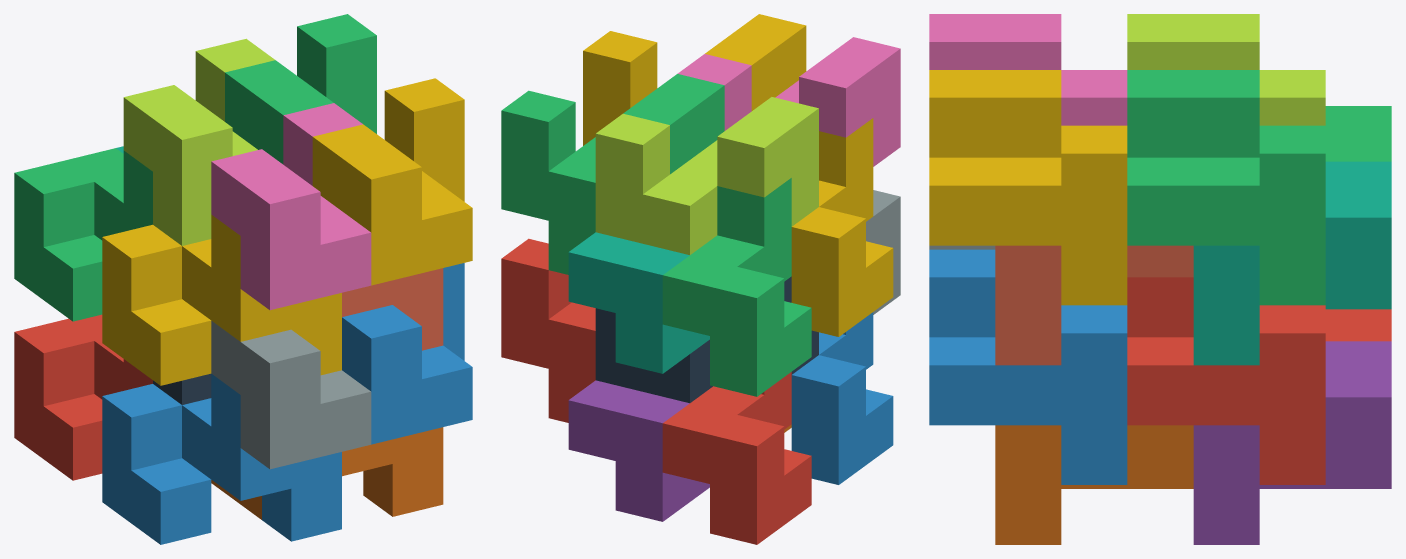
Rendered from tiling.obj.
3 views of the same model, side by side, from view 1: azimuth 30°, elevation 25°; view 2: azimuth 150°, elevation 25°; view 3: azimuth 270°, elevation 25° (orthographic). The views are drawn at different scales.
Parts seen in each view (by area): view 1: copy_1_domain_2, copy_1_domain_4, copy_2_domain_8, copy_2_domain_4, copy_1_domain_3, copy_2_domain_2, copy_2_domain_3, copy_1_domain_1, copy_2_domain_6, copy_2_domain_7, copy_1_domain_6, copy_1_domain_8 (+1 smaller); view 2: copy_2_domain_3, copy_1_domain_3, copy_2_domain_7, copy_1_domain_1, copy_1_domain_4, copy_1_domain_2, copy_2_domain_4, copy_2_domain_8, copy_2_domain_5, copy_1_domain_5, copy_1_domain_7, copy_2_domain_1 (+1 smaller); view 3: copy_2_domain_7, copy_2_domain_8, copy_2_domain_6, copy_2_domain_5, copy_1_domain_5, copy_1_domain_7, copy_1_domain_6, copy_2_domain_3, copy_2_domain_4, copy_1_domain_8, copy_1_domain_3, copy_1_domain_1.
Part boxes in pixels (x1=…): copy_1_domain_2: x1=102, y1=374, x2=341, y2=544; copy_1_domain_4: x1=102, y1=214, x2=341, y2=385; copy_2_domain_8: x1=312, y1=78, x2=472, y2=285; copy_2_domain_4: x1=211, y1=103, x2=371, y2=310; copy_1_domain_3: x1=14, y1=148, x2=152, y2=321; copy_2_domain_2: x1=211, y1=321, x2=371, y2=469; copy_2_domain_3: x1=123, y1=38, x2=275, y2=245; copy_1_domain_1: x1=14, y1=314, x2=152, y2=480; copy_2_domain_6: x1=342, y1=263, x2=472, y2=444; copy_2_domain_7: x1=225, y1=14, x2=376, y2=164; copy_1_domain_6: x1=211, y1=427, x2=443, y2=519; copy_1_domain_8: x1=342, y1=268, x2=443, y2=350; copy_2_domain_3: x1=595, y1=97, x2=818, y2=254; copy_1_domain_3: x1=662, y1=178, x2=811, y2=396; copy_2_domain_7: x1=501, y1=74, x2=724, y2=274; copy_1_domain_1: x1=662, y1=372, x2=811, y2=544; copy_1_domain_4: x1=791, y1=118, x2=893, y2=336; copy_1_domain_2: x1=791, y1=312, x2=893, y2=484; copy_2_domain_4: x1=677, y1=37, x2=900, y2=166; copy_2_domain_8: x1=583, y1=14, x2=806, y2=145; copy_2_domain_5: x1=501, y1=238, x2=595, y2=422; copy_1_domain_5: x1=568, y1=380, x2=709, y2=521; copy_1_domain_7: x1=568, y1=232, x2=709, y2=373; copy_2_domain_1: x1=595, y1=276, x2=818, y2=403; copy_2_domain_7: x1=1127, y1=70, x2=1325, y2=305; copy_2_domain_8: x1=929, y1=70, x2=1127, y2=305; copy_2_domain_6: x1=929, y1=249, x2=1127, y2=484; copy_2_domain_5: x1=1127, y1=277, x2=1325, y2=484; copy_1_domain_5: x1=1193, y1=341, x2=1391, y2=544; copy_1_domain_7: x1=1193, y1=161, x2=1391, y2=365; copy_1_domain_6: x1=995, y1=425, x2=1193, y2=544; copy_2_domain_3: x1=1127, y1=14, x2=1325, y2=125; copy_2_domain_4: x1=929, y1=14, x2=1127, y2=125; copy_1_domain_8: x1=995, y1=245, x2=1193, y2=365; copy_1_domain_3: x1=1325, y1=106, x2=1391, y2=161; copy_1_domain_1: x1=1325, y1=309, x2=1391, y2=341.
Bounding box in the file's own units: 6 × 7 × 7.
